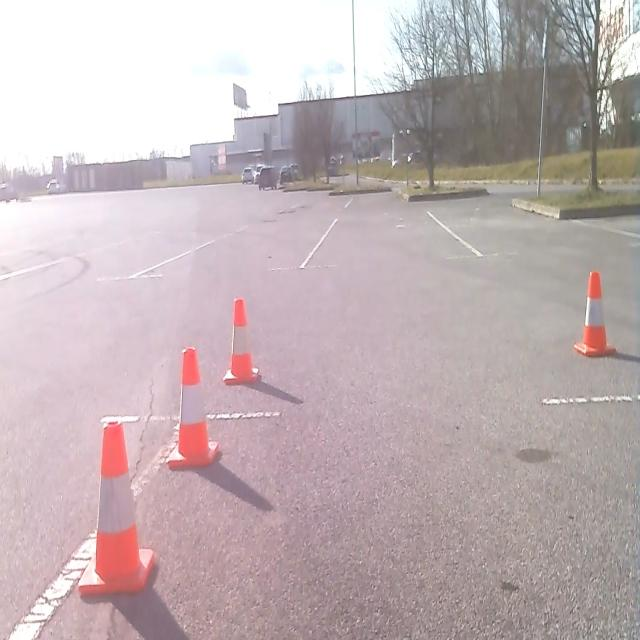orange_cone: (77, 415, 156, 599), (166, 344, 220, 470), (572, 268, 618, 358), (222, 294, 260, 385)
